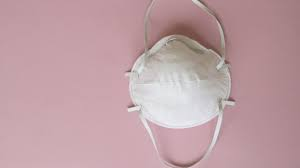flumask: (126, 35, 231, 131)
